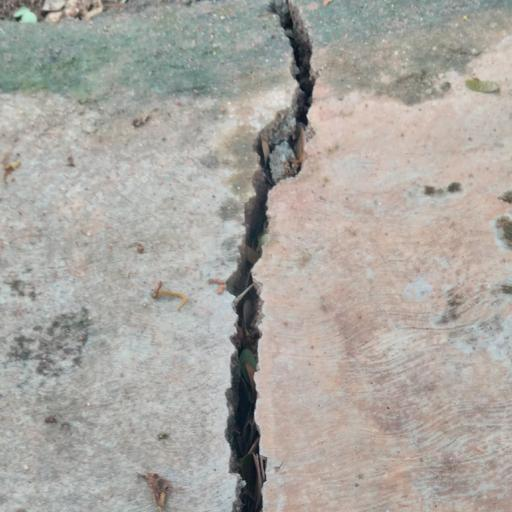major_crack: (222, 0, 325, 512)
